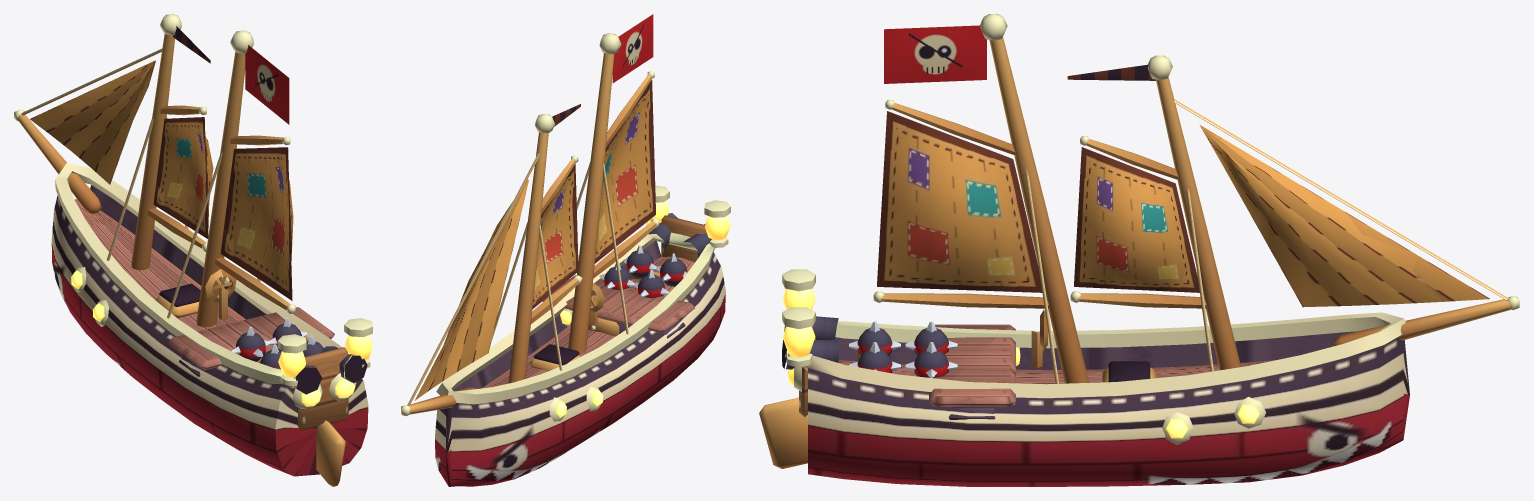
The model's file is brethren_runner.glb.
3 views of the same model, side by side, from view 1: azimuth 30°, elevation 25°; view 2: azimuth 150°, elevation 25°; view 3: azimuth 270°, elevation 25° (orthographic). The views are drawn at different scales.
Parts seen in each view (by area): view 1: Hull, Rigging, Sail1_0, Jib, Sail0_0, Flag, Guns0; view 2: Hull, Rigging, Sail1_0, Jib, Sail0_0, Flag, Guns0; view 3: Hull, Rigging, Sail1_0, Jib, Sail0_0, Flag, Guns0.
Boxes of the visible parts, x1,y1,x2,y2 form: Hull: (51,163,372,486); Rigging: (14,14,295,327); Sail1_0: (220,147,293,300); Jib: (30,60,155,184); Sail0_0: (153,117,213,238); Flag: (173,26,289,124); Guns0: (280,346,367,394); Hull: (435,185,730,486); Rigging: (401,33,659,416); Sail1_0: (594,80,655,263); Jib: (415,179,528,400); Sail0_0: (532,164,578,309); Flag: (552,14,653,126); Guns0: (648,213,715,257); Hull: (759,269,1409,486); Rigging: (873,14,1519,383); Sail1_0: (877,111,1042,292); Jib: (1199,125,1489,307); Sail0_0: (1074,147,1199,292); Flag: (884,25,1155,83); Guns0: (782,316,838,369).
Size of the model in its own units: 0.8288 by 2.24 by 3.4.
Materials: 8 (8 with a texture image).
